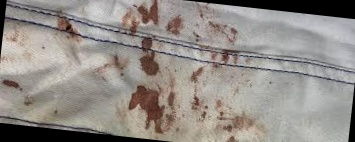blood: (127, 85, 170, 134), (136, 38, 162, 77), (183, 67, 206, 111), (215, 114, 254, 136), (208, 21, 239, 44), (135, 0, 160, 25), (56, 20, 82, 42), (212, 51, 238, 71), (166, 17, 182, 34), (3, 78, 21, 91)
